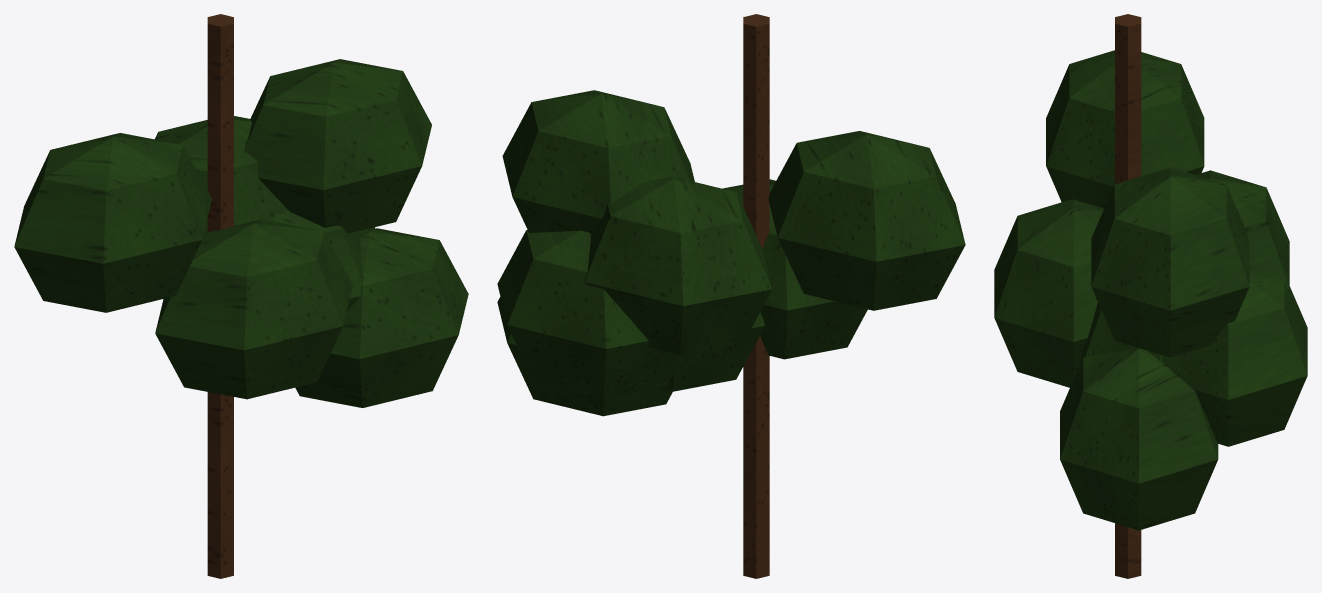
Rendered from PROP-39FE989620EB_lod2.glb.
3 renders of one model, left to right at view 1: azimuth 30°, elevation 25°; view 2: azimuth 150°, elevation 25°; view 3: azimuth 270°, elevation 25°, orthographic.
Parts seen in each view (by area): view 1: foliage.016, vine_stake.002; view 2: foliage.016, vine_stake.002; view 3: foliage.016, vine_stake.002.
Part boxes in pixels (box(x1,y1,x2,y2)): foliage.016: box(14, 59, 468, 407); vine_stake.002: box(207, 14, 233, 578); foliage.016: box(497, 90, 965, 416); vine_stake.002: box(743, 14, 769, 578); foliage.016: box(994, 50, 1307, 530); vine_stake.002: box(1115, 14, 1141, 578).
Size of the model in its own units: 1.4 by 1.6 by 0.8227.
2 materials, 2 textured.
